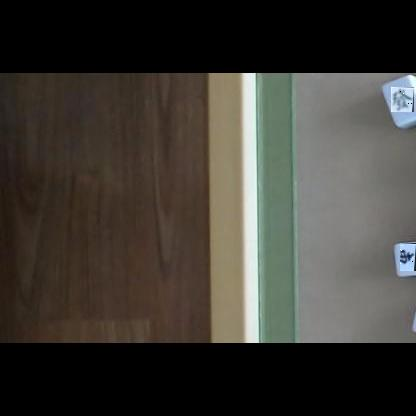1z: (400, 243, 416, 271)
6z: (391, 87, 414, 112)
